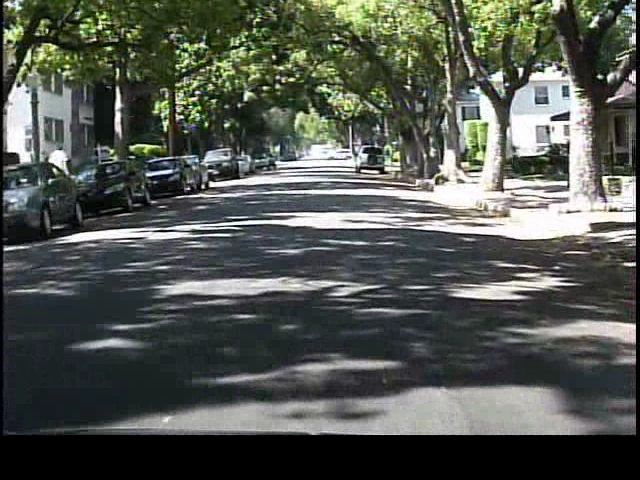person: (47, 139, 74, 201)
